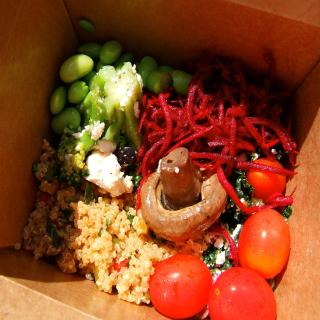tomato: (148, 253, 214, 318), (233, 210, 290, 280), (209, 268, 275, 320), (244, 155, 285, 202)
